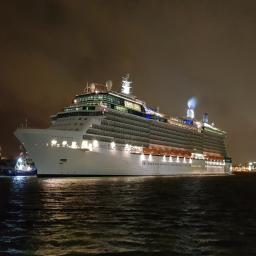cruises: (13, 73, 239, 181)
